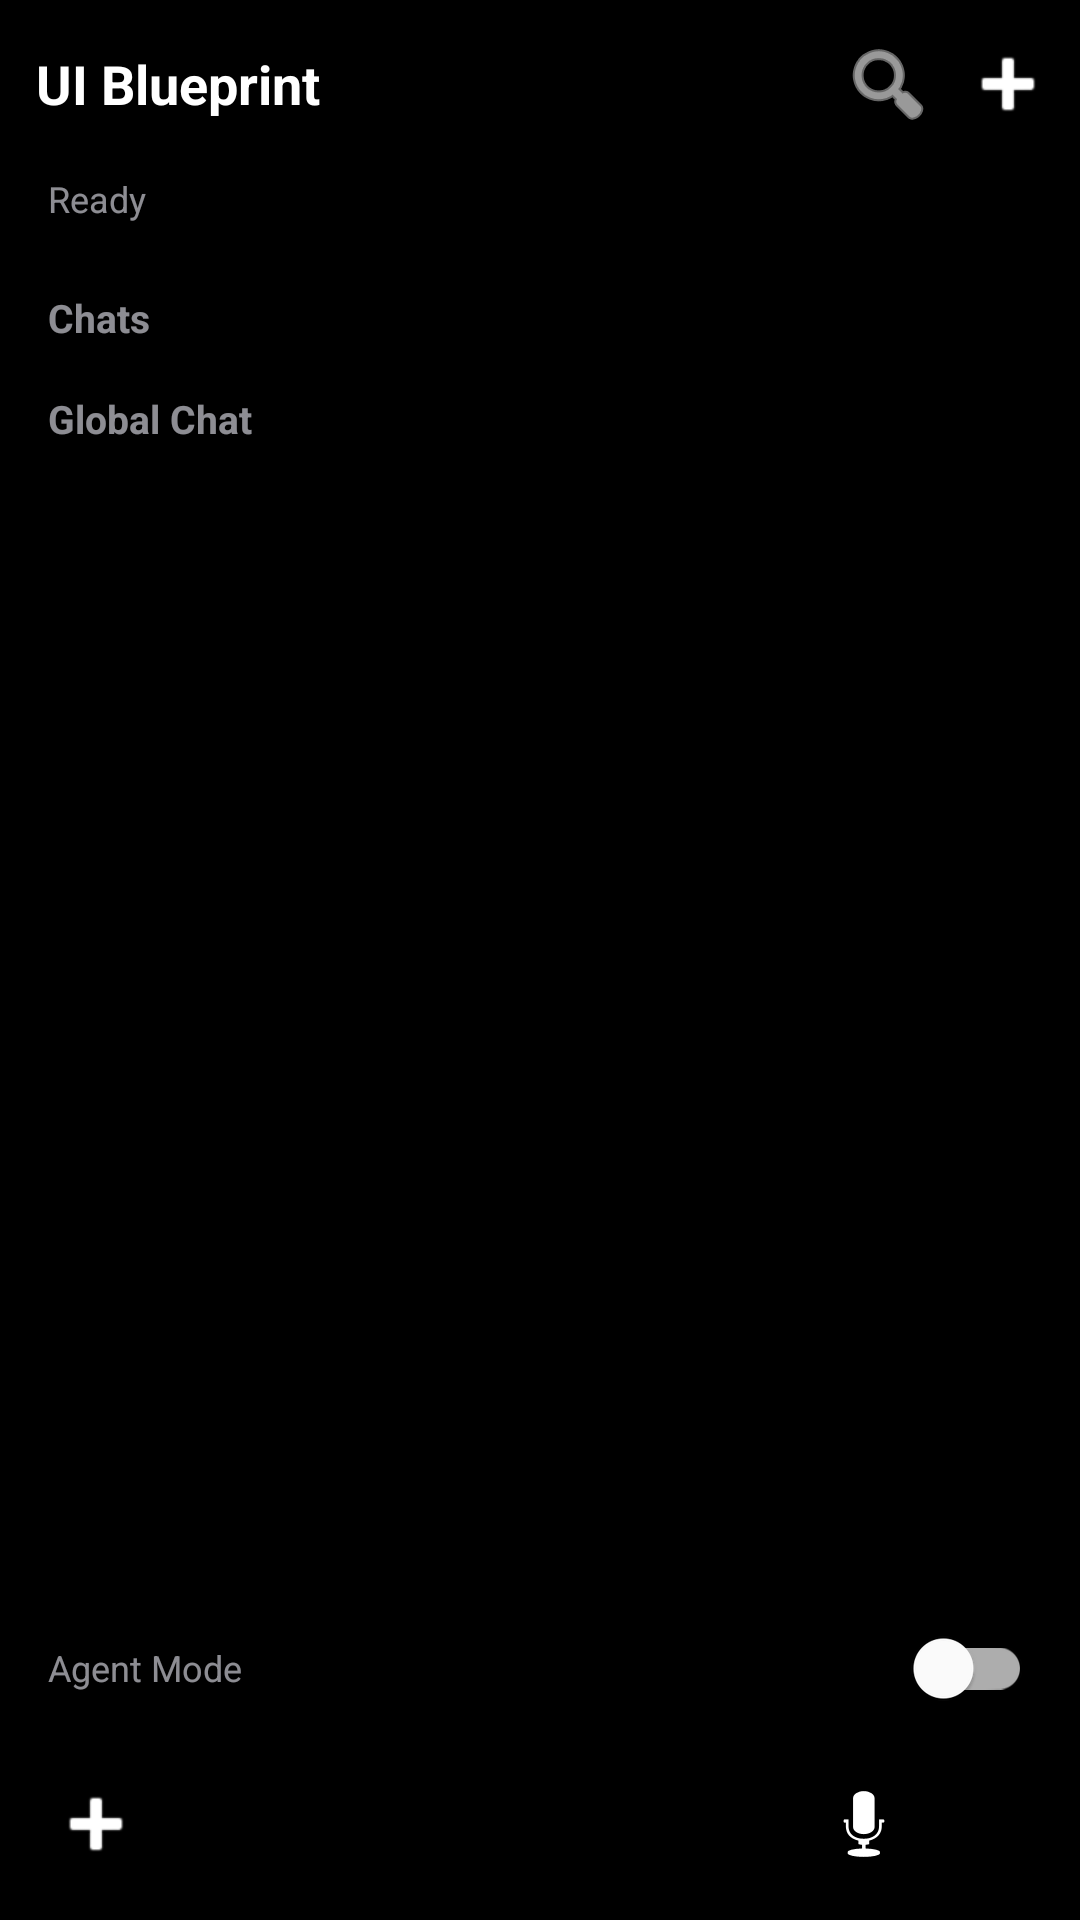

Locate icon controls on the screen. Image size 1080w x 1920h, boxes as Rect(x1, y1, x2, y2).
Attach: Rect(69, 1797, 123, 1851)
New chat: Rect(981, 57, 1035, 111)
Voice input: Rect(843, 1791, 885, 1857)
